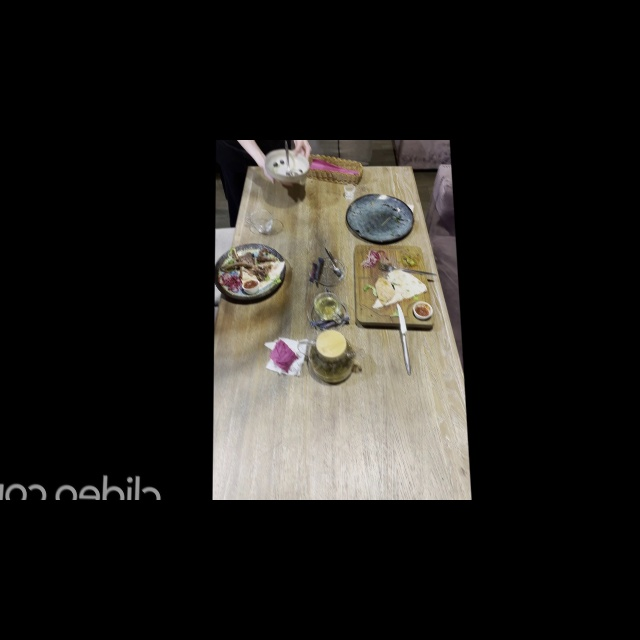графин с чаем: (299, 330, 365, 385)
закуска(пустая тарелка): (353, 245, 435, 328)
мясо(пустая тарелка): (213, 244, 286, 301)
салат(пустая тарелка): (345, 195, 415, 243)
